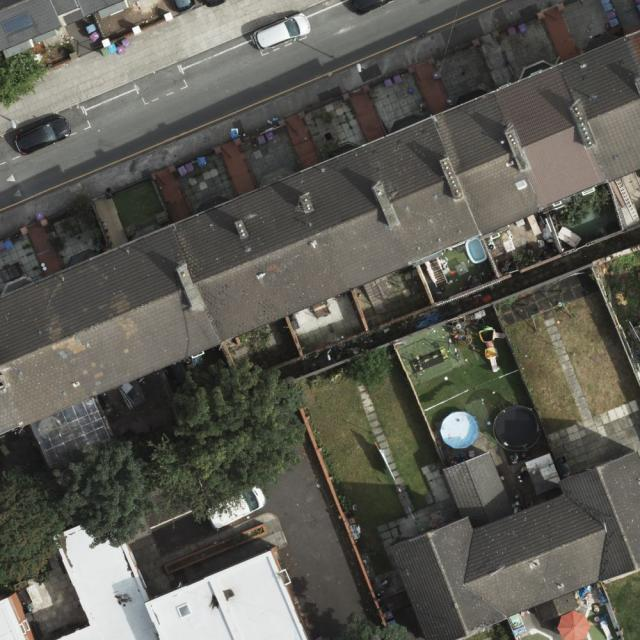roof: (0, 27, 640, 436), (391, 450, 640, 640), (56, 520, 307, 640), (0, 0, 124, 49), (0, 595, 28, 639)
skylight: (5, 10, 39, 38), (174, 601, 193, 621)
